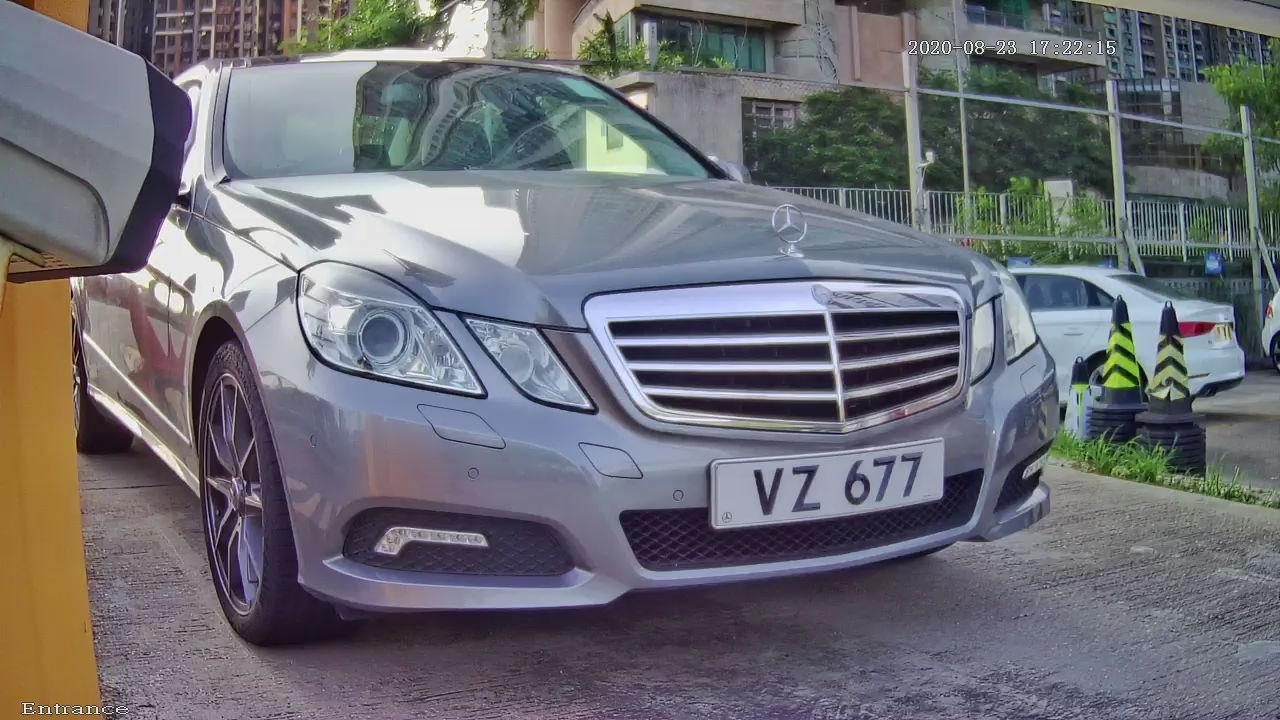Car: (52, 13, 1132, 666)
License Plate: (637, 400, 1030, 563)
